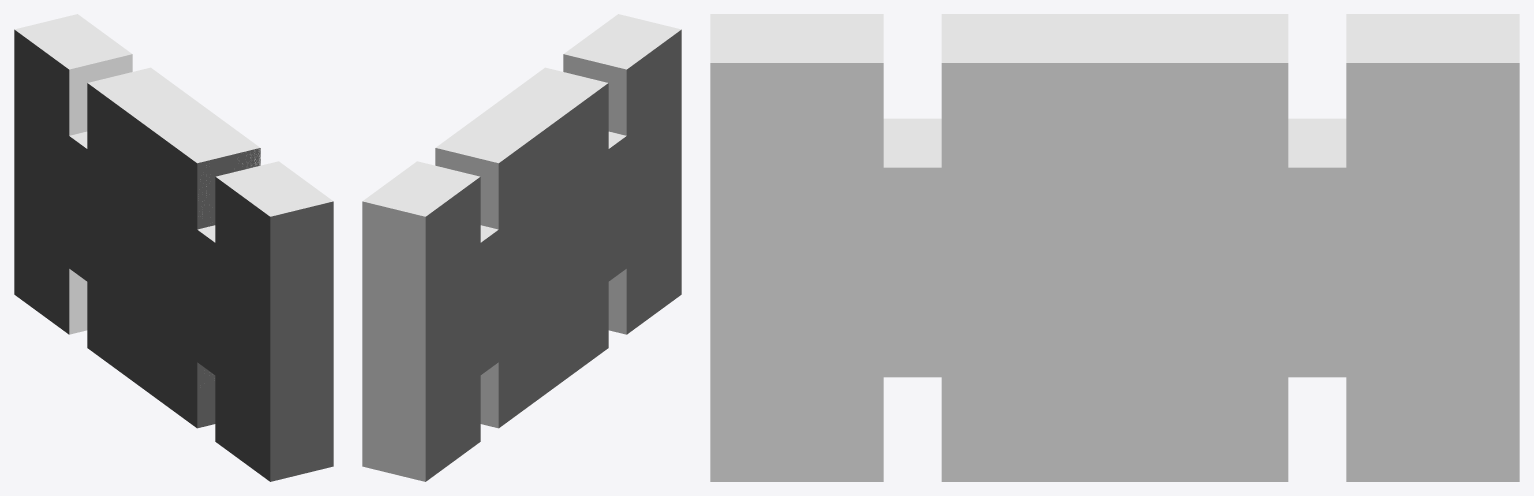
File: Akro Kit_col1.fbx
3 renders of one model, left to right at view 1: azimuth 30°, elevation 25°; view 2: azimuth 150°, elevation 25°; view 3: azimuth 270°, elevation 25°, orthographic. The views are drawn at different scales.
Visible parts, largest first — view 1: Akro3_col1_LOD0, Akro2_col1_LOD0, Akro1_col1_LOD0; view 2: Akro3_col1_LOD0, Akro2_col1_LOD0, Akro1_col1_LOD0; view 3: Akro3_col1_LOD0, Akro2_col1_LOD0, Akro1_col1_LOD0.
Boxes of the visible parts, x1,y1,x2,y2 form: Akro3_col1_LOD0: [14, 14, 333, 481]; Akro2_col1_LOD0: [32, 27, 313, 468]; Akro1_col1_LOD0: [87, 83, 260, 428]; Akro3_col1_LOD0: [362, 14, 681, 481]; Akro2_col1_LOD0: [385, 27, 663, 467]; Akro1_col1_LOD0: [435, 77, 608, 427]; Akro3_col1_LOD0: [710, 14, 1519, 481]; Akro2_col1_LOD0: [768, 14, 1461, 481]; Akro1_col1_LOD0: [941, 14, 1288, 481].
Size of what is drawn, in the model's own units: 0.6 by 4.2 by 2.4.
Materials: 1 (1 with a texture image).
